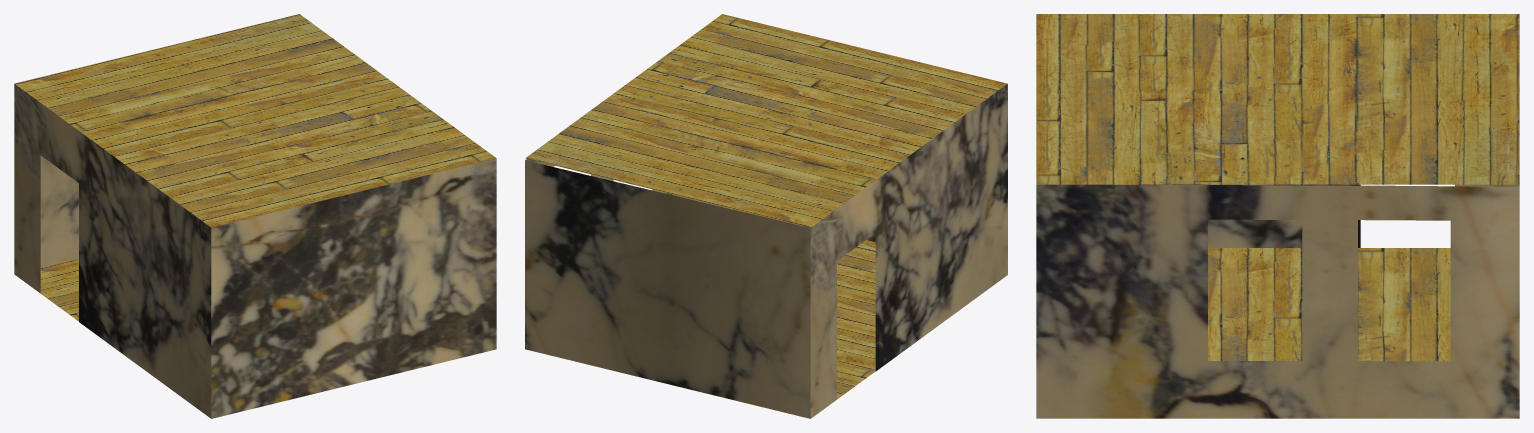
The model's file is building.obj.
3 renders of one model, left to right at view 1: azimuth 30°, elevation 25°; view 2: azimuth 150°, elevation 25°; view 3: azimuth 270°, elevation 25°, orthographic. The views are drawn at different scales.
Visible parts, largest first — view 1: object_3, object_1, object_2; view 2: object_3, object_1, object_2; view 3: object_3, object_1, object_2.
Part boxes in pixels (bbox=[...]): object_3: bbox=[14, 84, 496, 418]; object_1: bbox=[14, 14, 496, 227]; object_2: bbox=[40, 258, 78, 321]; object_3: bbox=[525, 84, 1007, 418]; object_1: bbox=[525, 14, 1007, 227]; object_2: bbox=[720, 206, 875, 399]; object_3: bbox=[1036, 184, 1519, 418]; object_1: bbox=[1036, 14, 1519, 184]; object_2: bbox=[1208, 248, 1450, 361].
Size of the model in its own units: 25.4 by 16.26 by 30.38.
2 materials, 2 textured.
